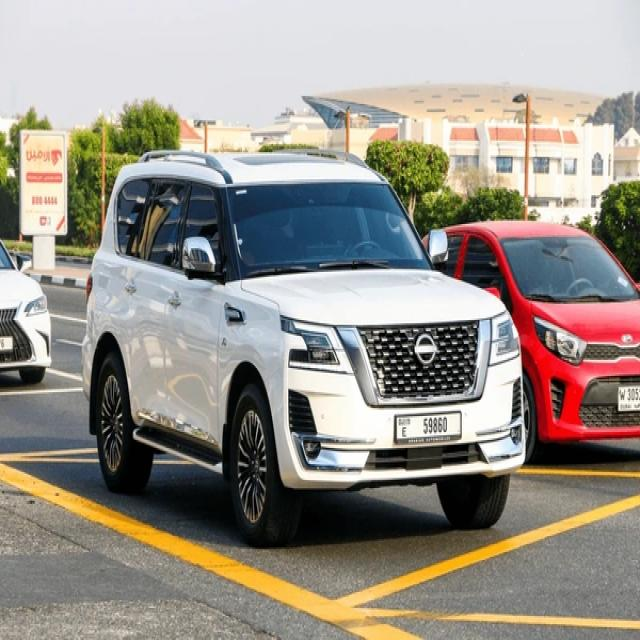nissan: (414, 329, 442, 370)
